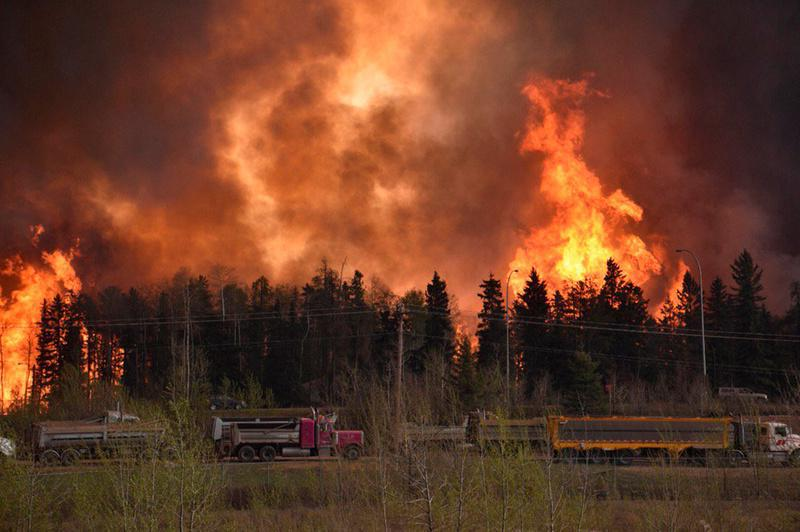fire: (506, 69, 699, 320), (1, 228, 116, 406)
